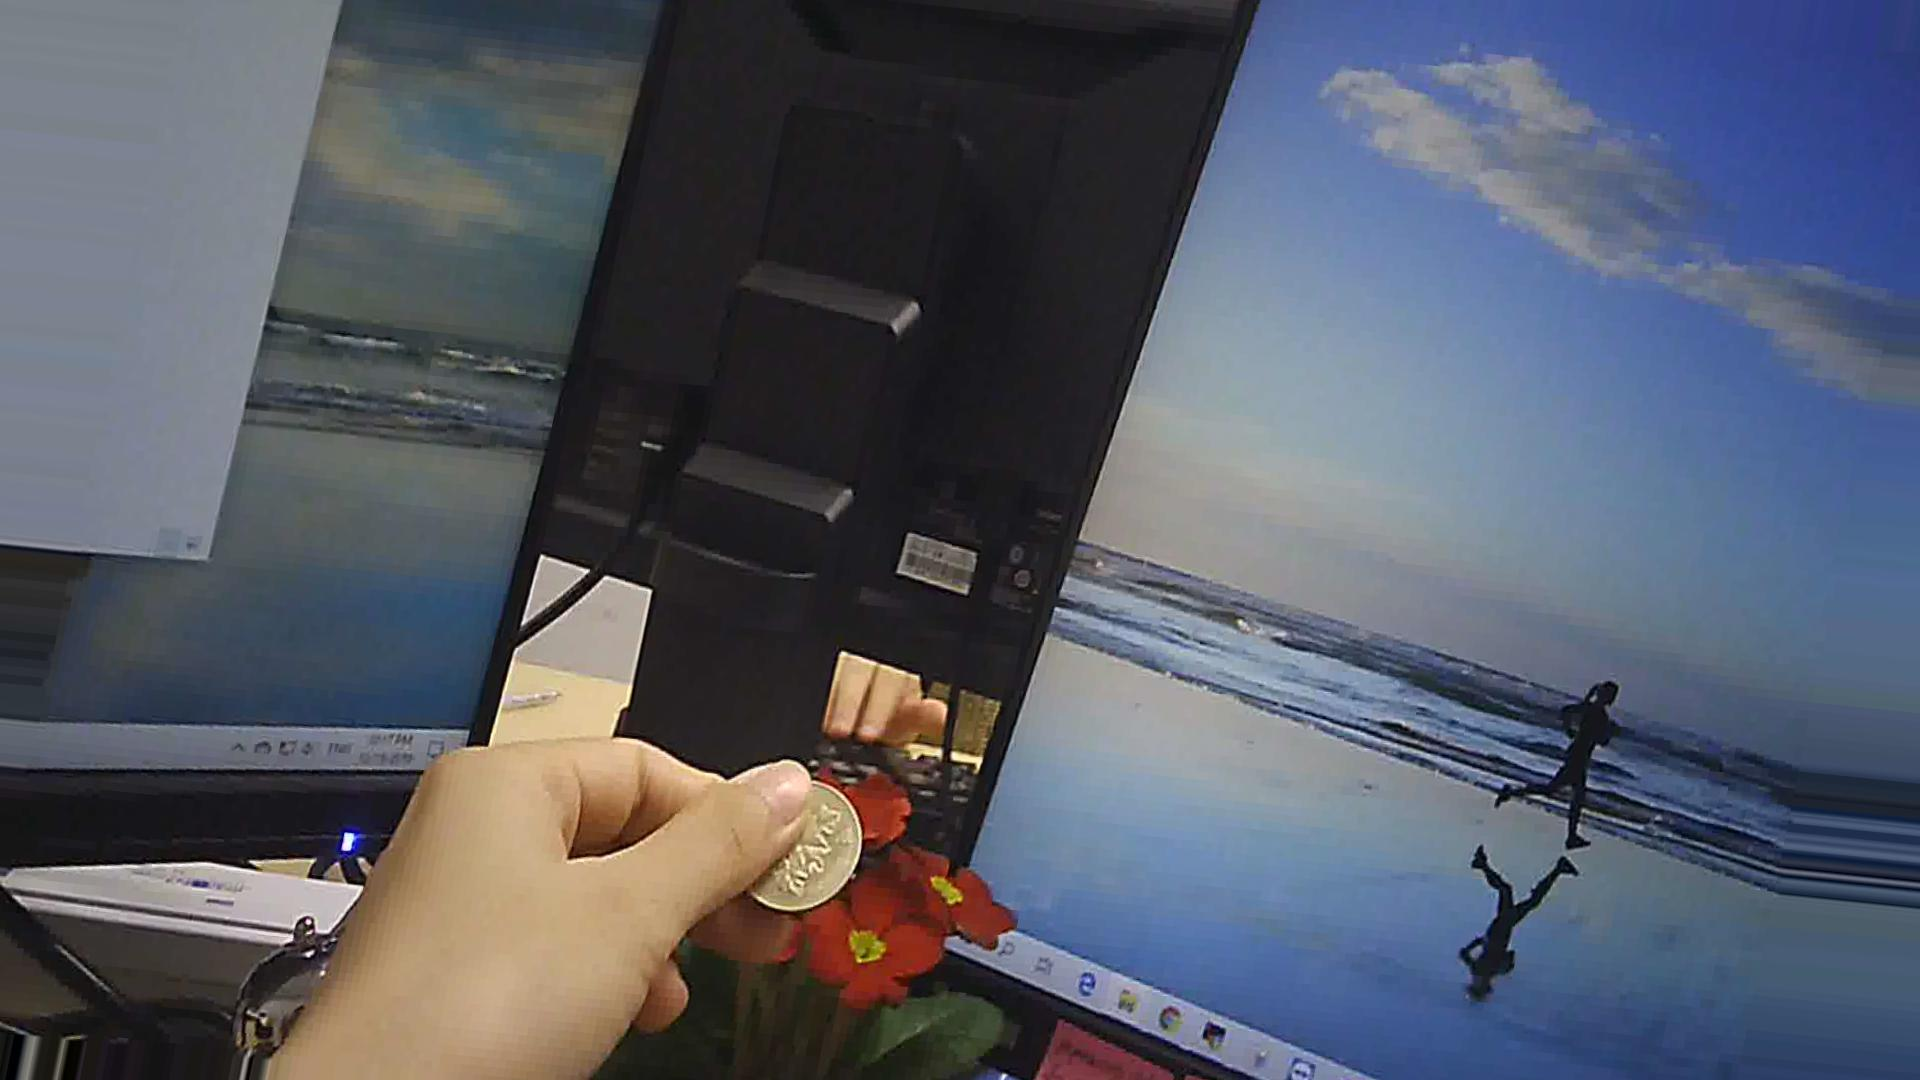500 Yen: (736, 775, 868, 911)
